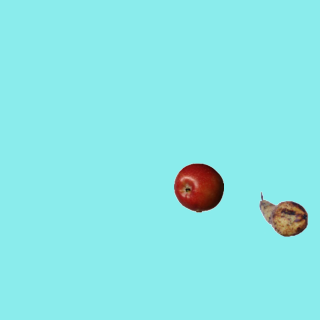Apple Braeburn: (173, 162, 223, 212)
Pear Abate: (258, 189, 308, 239)
